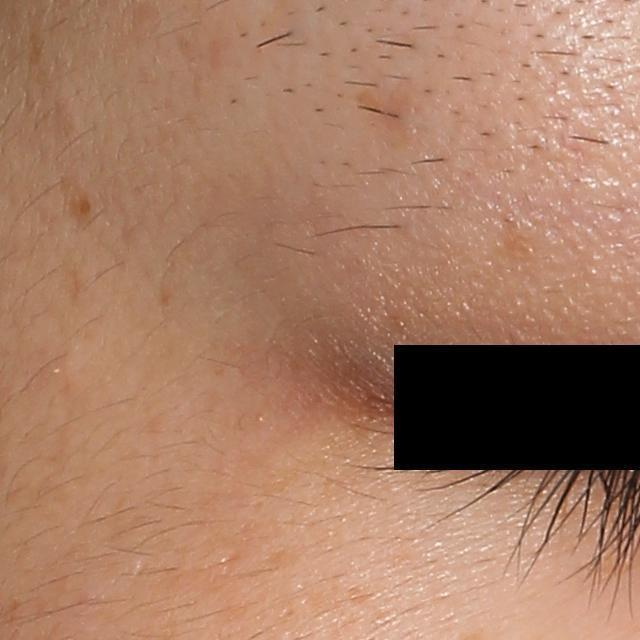melasma: (351, 75, 415, 143), (494, 232, 542, 263)
